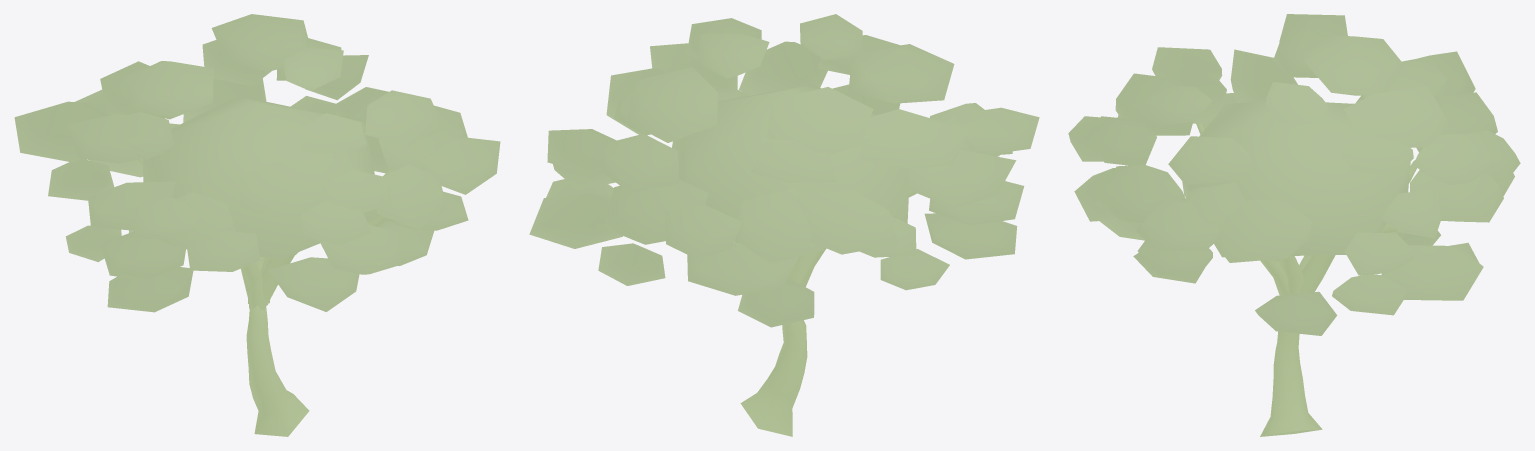
Rendered from Blender_Mesquite_3_Far.glb.
The picture shows the model from 3 angles, left to right: view 1: azimuth 30°, elevation 25°; view 2: azimuth 150°, elevation 25°; view 3: azimuth 270°, elevation 25°; orthographic projection. The views are drawn at different scales.
Parts seen in each view (by area): view 1: Blender_Mesquite_3_Far; view 2: Blender_Mesquite_3_Far; view 3: Blender_Mesquite_3_Far.
Part boxes in pixels (x1,y1,x2,y2): Blender_Mesquite_3_Far: (14,14,500,436); Blender_Mesquite_3_Far: (529,14,1039,436); Blender_Mesquite_3_Far: (1068,14,1520,436).
Bounding box in the file's own units: 9.19 × 8.6 × 9.37.
